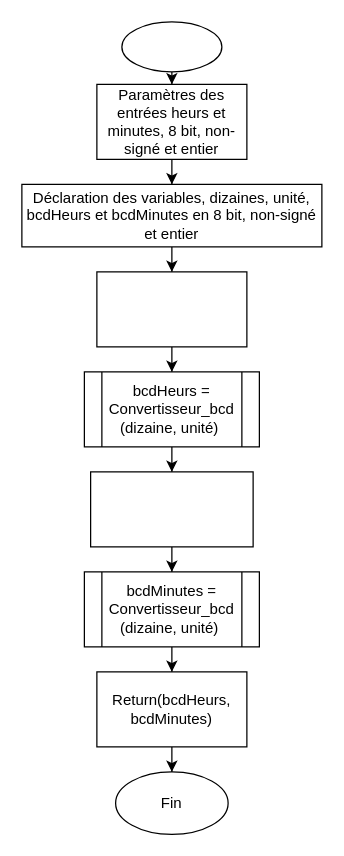
This 344x856 diagram has some shape labels left out. Each missing label, with the centre of its shape:
"dizaines = heurs / 10 unité = heurs % 10" belongs at pixel 171 309.
"dizaines = minutes / 10 unité = minutes % 10" belongs at pixel 171 509.
"Début" belongs at pixel 171 46.
